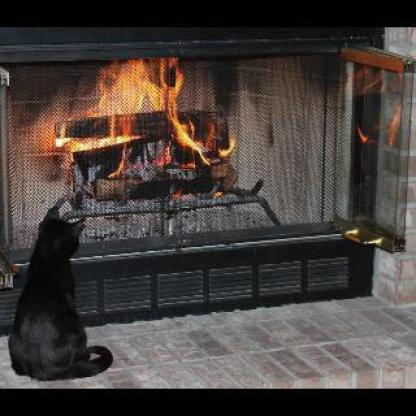fire: (60, 53, 236, 198)
